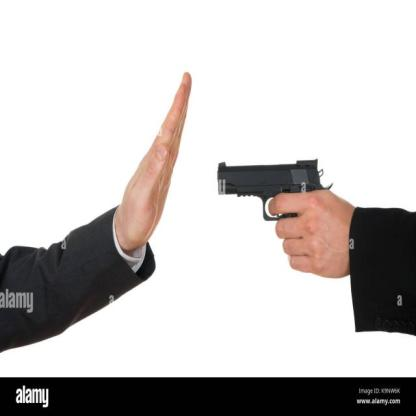handgun: (218, 161, 332, 234)
